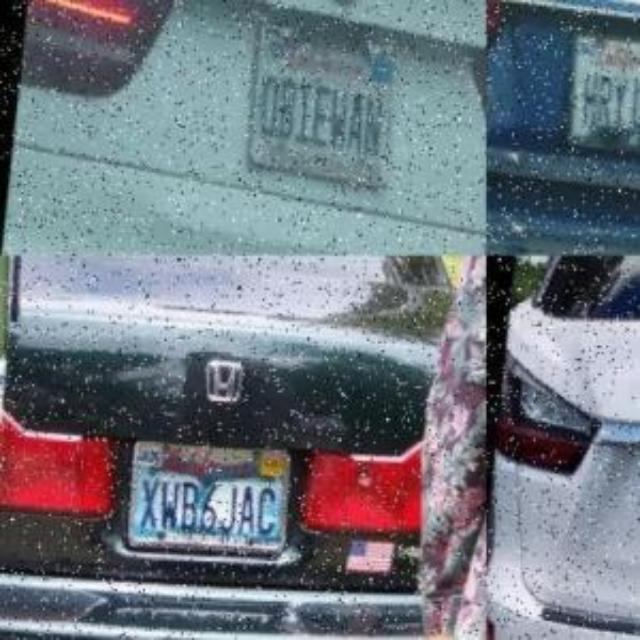license_plate: (249, 9, 409, 188), (128, 436, 296, 552), (568, 19, 640, 151)
